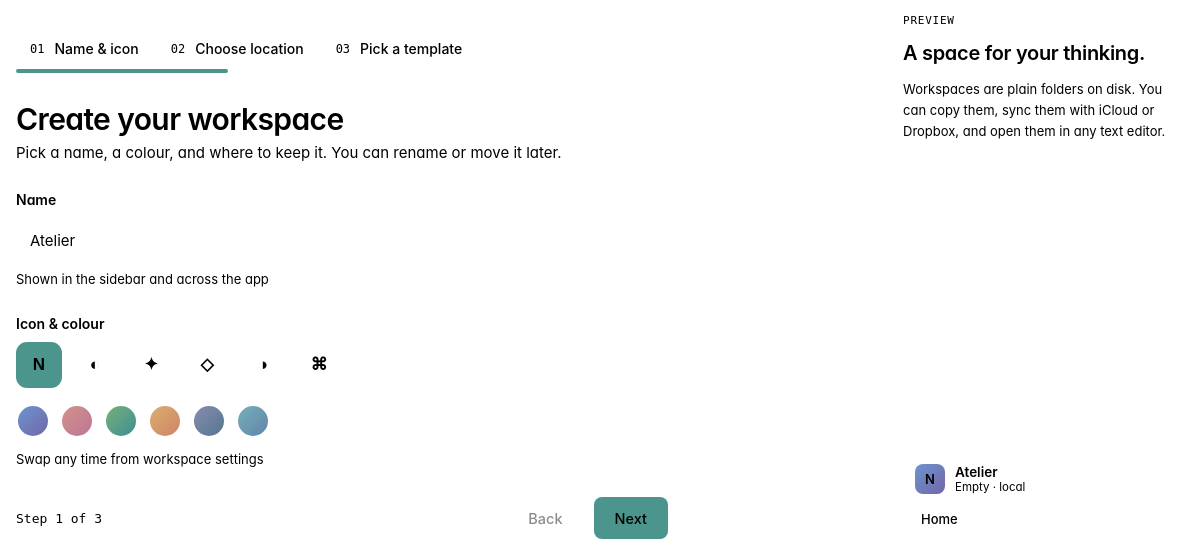
Scenario: onboarding workspace storage options › disables the location and template tabs while the name is blank
Clear the field with id "workspace-name" at [342, 240], box x1=16 y1=218 x2=668 y2=262
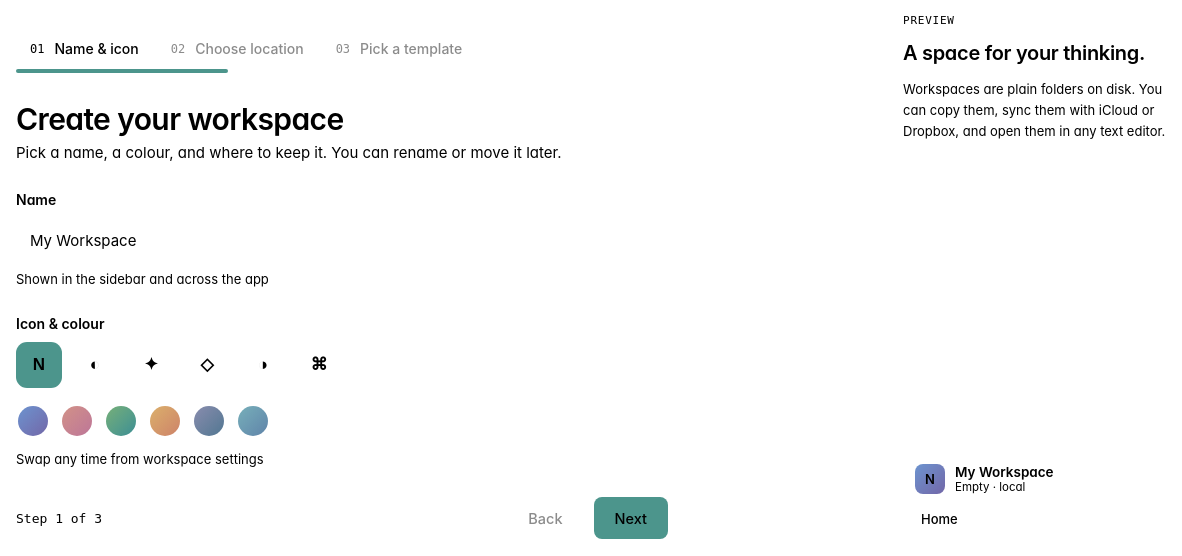
Check: the tab "02 Choose location" is disabled, box x1=157 y1=31 x2=318 y2=67
Check: the tab "03 Pick a template" is disabled, box x1=322 y1=31 x2=476 y2=67
Type "Atelier" into the field with id "workspace-name" at [342, 240], box x1=16 y1=218 x2=668 y2=262
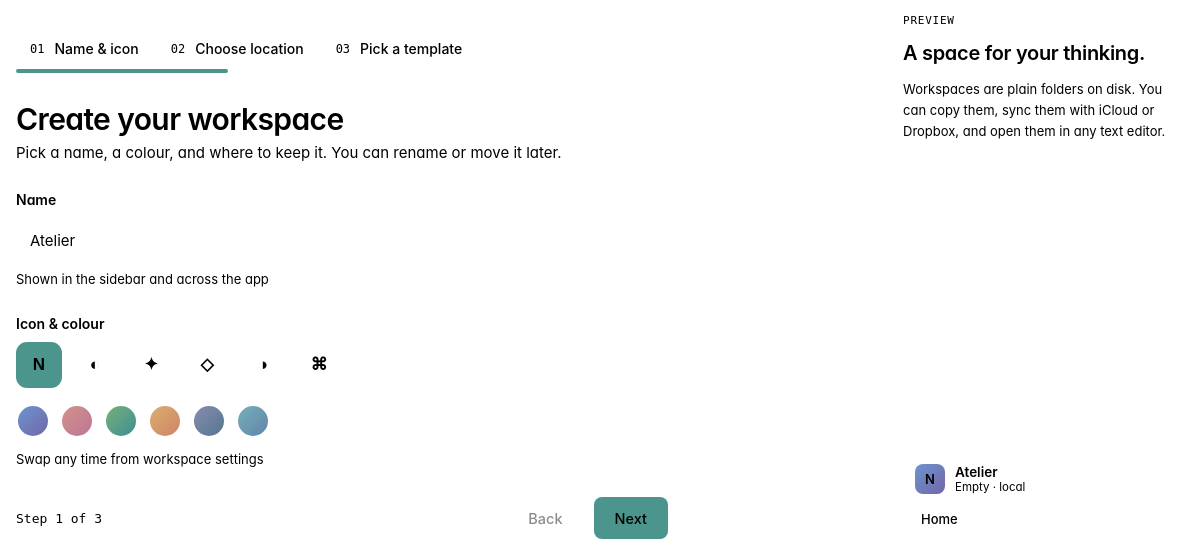
Check: the tab "02 Choose location" is enabled, box x1=157 y1=31 x2=318 y2=67
